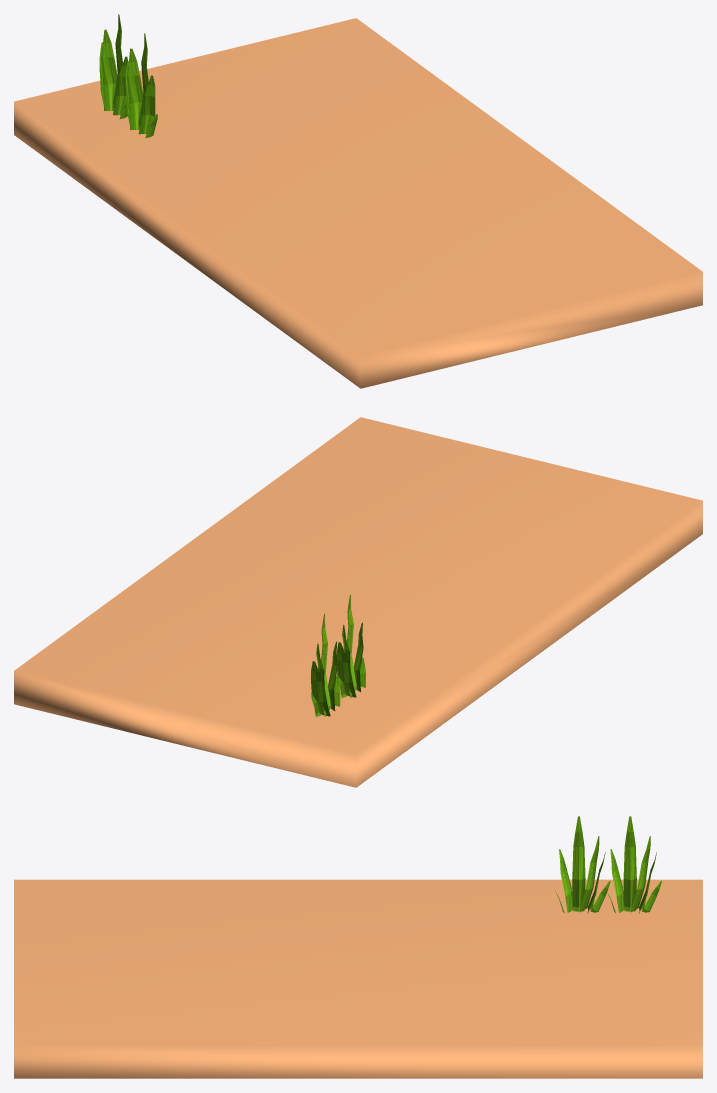
The model's file is trap_up1031.fbx.
3 renders of one model, top to bottom at view 1: azimuth 30°, elevation 25°; view 2: azimuth 150°, elevation 25°; view 3: azimuth 270°, elevation 25°, orthographic.
Visible parts, largest first — view 1: trap.up.001; view 2: trap.up.001; view 3: trap.up.001.
Part boxes in pixels (bbox=[...]): trap.up.001: bbox=[14, 14, 702, 388]; trap.up.001: bbox=[14, 417, 702, 787]; trap.up.001: bbox=[14, 816, 702, 1078].
Bounding box in the file's own units: 353 × 968 × 1698.
